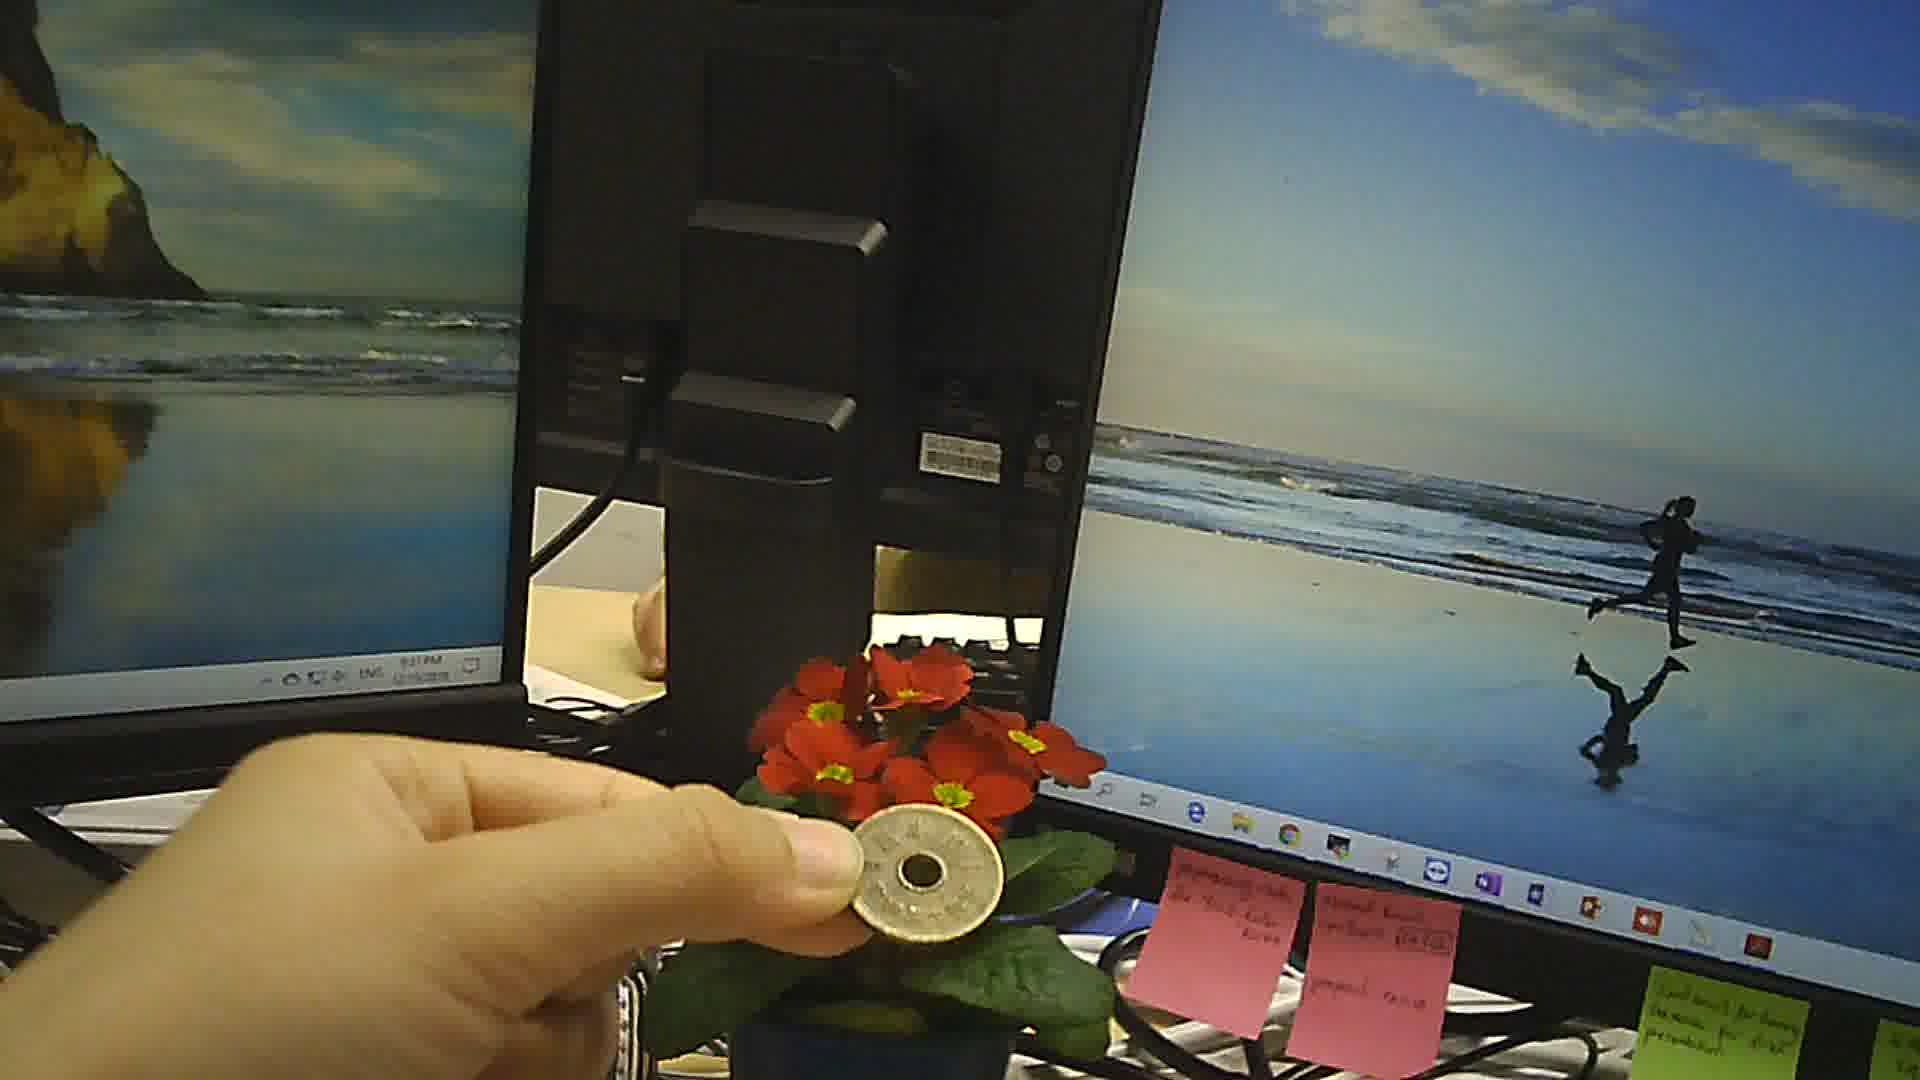5 Yen: (835, 800, 1021, 948)
